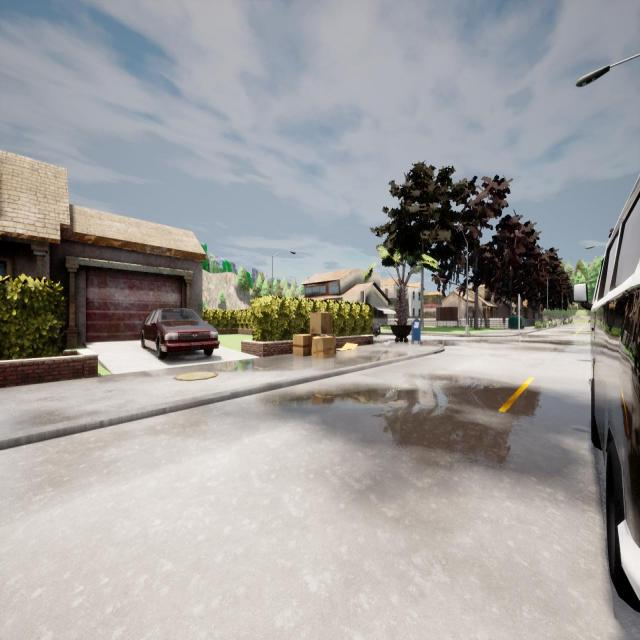Vehicle: (572, 169, 640, 613), (141, 308, 219, 359)
traffic_light: (518, 298, 522, 309), (361, 291, 364, 303)
